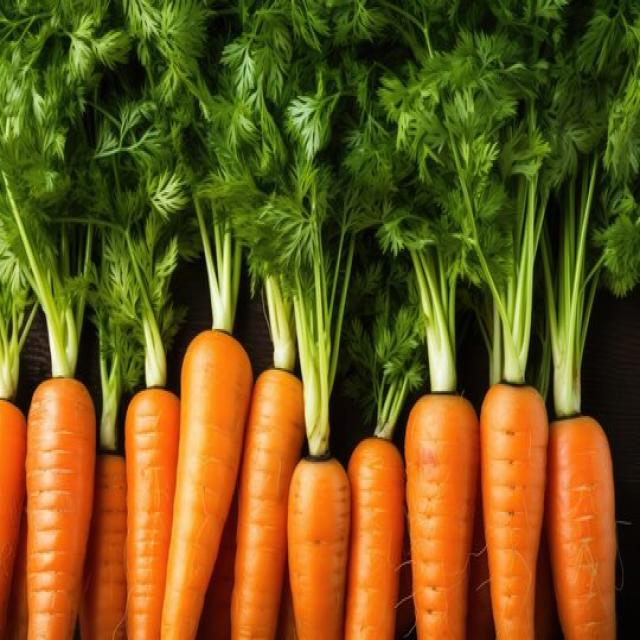Carrot: (158, 194, 252, 638), (402, 235, 479, 638), (343, 302, 423, 638), (122, 228, 180, 638), (77, 222, 128, 638), (228, 366, 304, 638), (23, 375, 96, 638), (479, 381, 549, 638), (546, 412, 618, 638), (0, 270, 36, 638), (343, 436, 404, 638), (286, 452, 350, 638), (78, 452, 127, 638), (0, 396, 26, 638)
